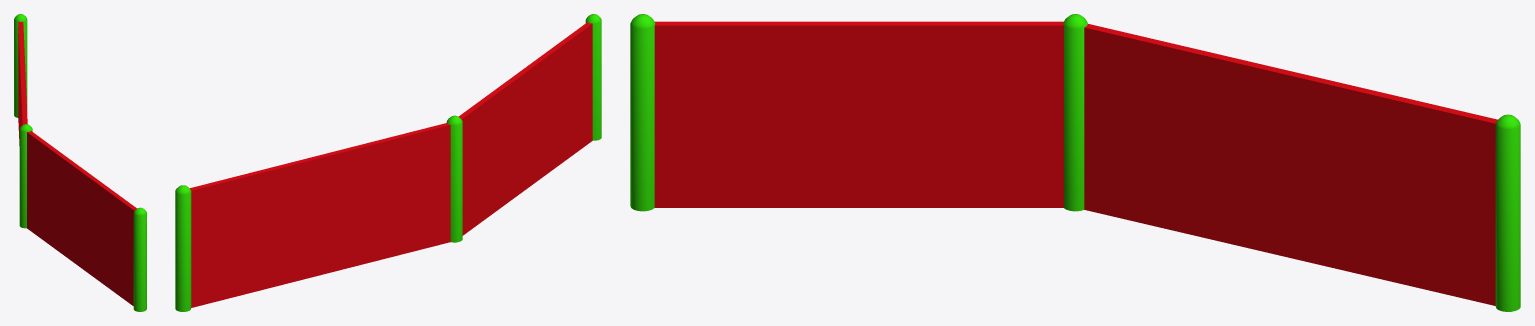
File: Acili_Duvar.fbx
3 renders of one model, left to right at view 1: azimuth 30°, elevation 25°; view 2: azimuth 150°, elevation 25°; view 3: azimuth 270°, elevation 25°, orthographic. The views are drawn at different scales.
Parts seen in each view (by area): view 1: Acili_Duvar; view 2: Acili_Duvar; view 3: Acili_Duvar.
Boxes of the visible parts, x1,y1,x2,y2 form: Acili_Duvar: [14, 14, 146, 311]; Acili_Duvar: [175, 14, 601, 311]; Acili_Duvar: [630, 14, 1520, 311].
Size of the model in its own units: 262 by 210 by 885.
